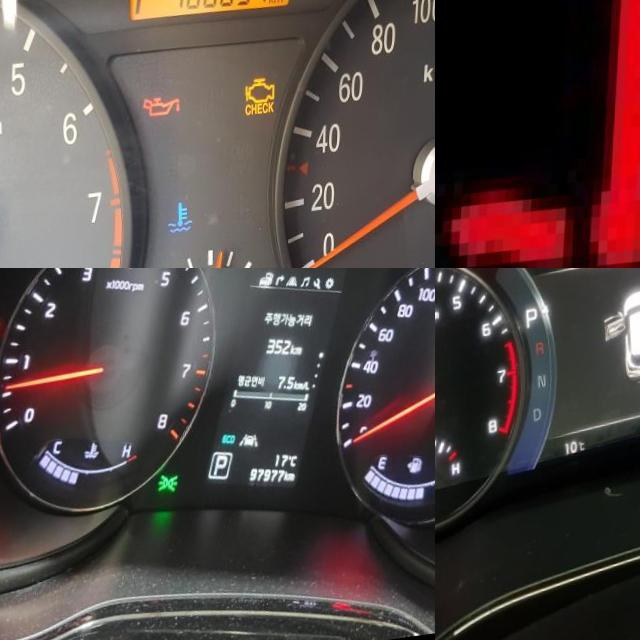Engine cooling system: (435, 0, 640, 268)
LaneCenteringOff: (240, 437, 262, 460)
SideLamp: (156, 476, 181, 502)
